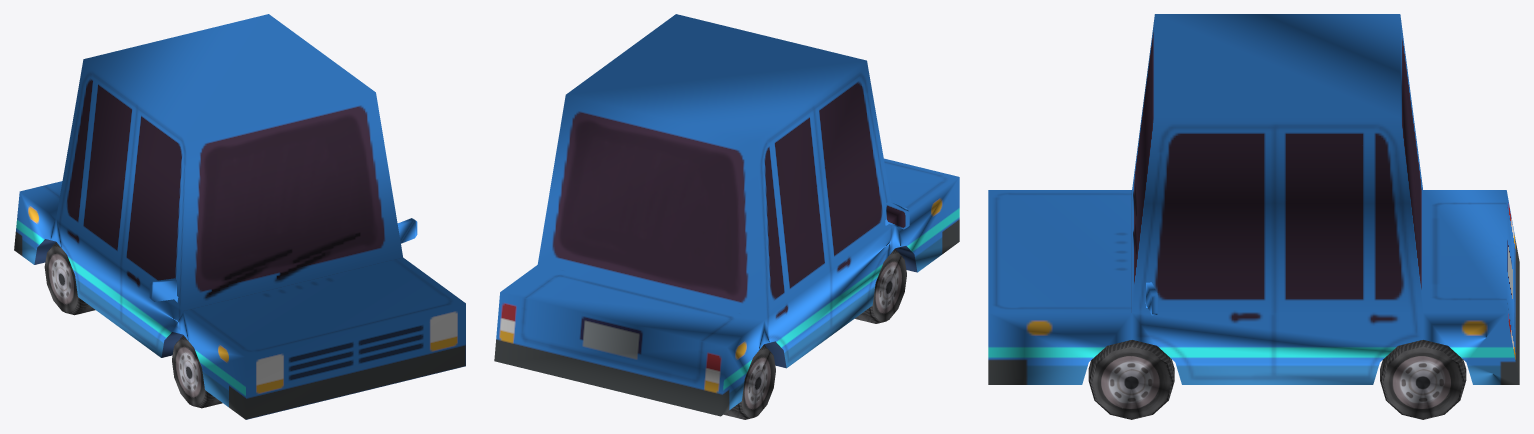
File: low-poly-car03.gltf
3 renders of one model, left to right at view 1: azimuth 30°, elevation 25°; view 2: azimuth 150°, elevation 25°; view 3: azimuth 270°, elevation 25°, orthographic. The views are drawn at different scales.
Parts seen in each view (by area): view 1: Low_Poly_Vehicles_car03; view 2: Low_Poly_Vehicles_car03; view 3: Low_Poly_Vehicles_car03.
Boxes of the visible parts, x1,y1,x2,y2 form: Low_Poly_Vehicles_car03: [14, 14, 465, 419]; Low_Poly_Vehicles_car03: [494, 14, 959, 419]; Low_Poly_Vehicles_car03: [988, 14, 1519, 419].
Bounding box in the file's own units: 24.16 × 22.5 × 36.51.
Materials: 1 (1 with a texture image).
